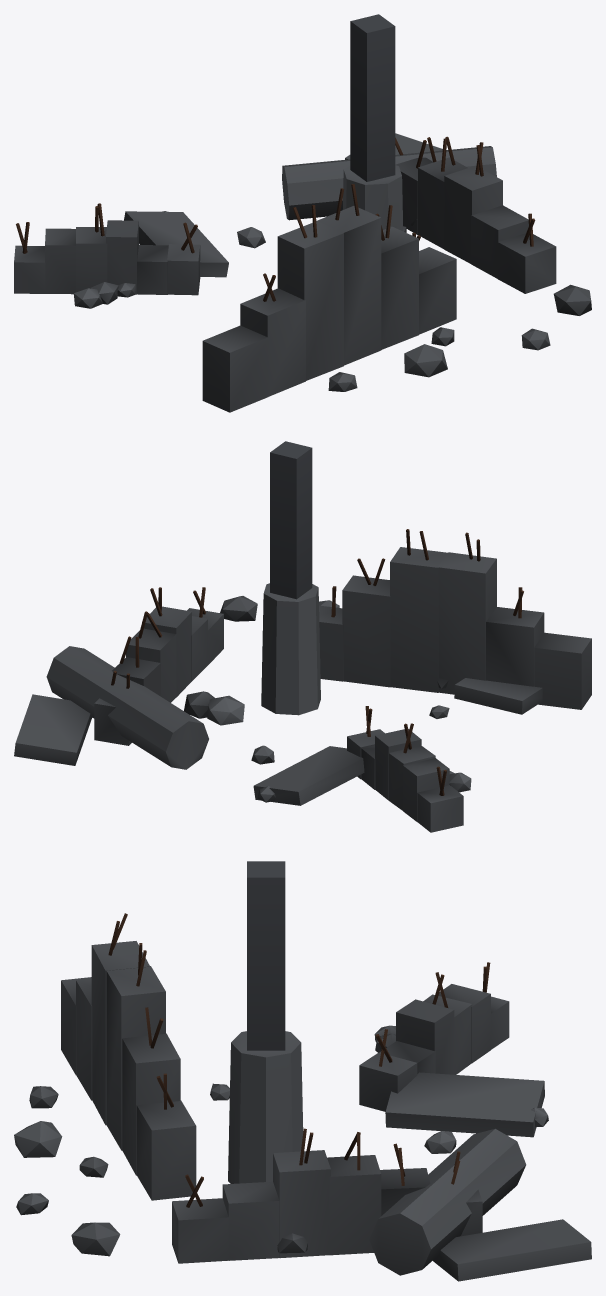
File: ruins.glb
3 renders of one model, top to bottom at view 1: azimuth 30°, elevation 25°; view 2: azimuth 150°, elevation 25°; view 3: azimuth 270°, elevation 25°, orthographic. The views are drawn at different scales.
Parts seen in each view (by area): view 1: v0; view 2: v0; view 3: v0.
Part boxes in pixels (<box>): v0: <box>14,14,591,412</box>; v0: <box>14,441,591,832</box>; v0: <box>14,861,591,1281</box>.
Size of the model in its own units: 4.08 by 2.27 by 3.78.
